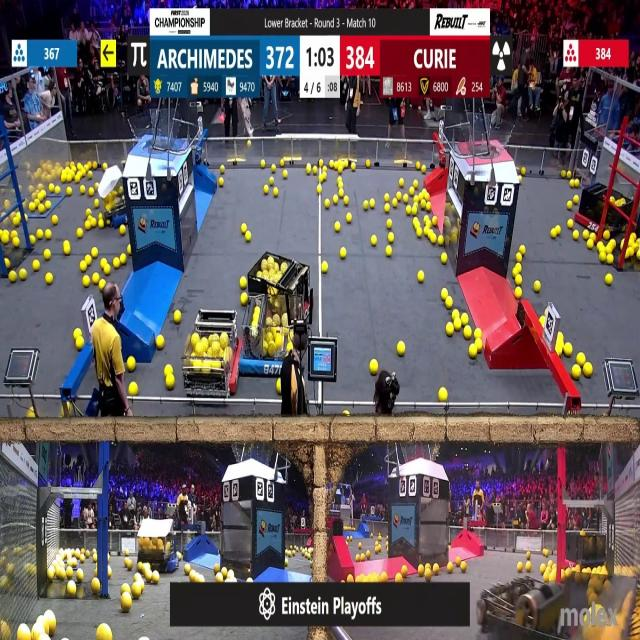ball_ground: (46, 614, 56, 636), (120, 594, 131, 612), (96, 625, 109, 640), (18, 627, 31, 640), (67, 583, 76, 599), (133, 585, 143, 599), (93, 579, 102, 594), (571, 364, 580, 378), (369, 359, 377, 374), (396, 342, 404, 357), (190, 572, 202, 582), (130, 383, 139, 396), (166, 377, 175, 390), (128, 357, 136, 371), (564, 344, 572, 358), (440, 388, 449, 400), (585, 363, 593, 376), (556, 343, 564, 356), (464, 326, 472, 338), (9, 272, 17, 284), (64, 242, 71, 255), (174, 311, 181, 324), (447, 322, 454, 335), (424, 566, 431, 579), (355, 572, 364, 582), (82, 276, 90, 287), (468, 347, 476, 358), (446, 297, 454, 308), (576, 353, 584, 364), (454, 319, 462, 330), (533, 281, 540, 293), (45, 274, 52, 286), (76, 339, 83, 351), (158, 338, 165, 350), (67, 567, 74, 579), (74, 328, 82, 338), (515, 265, 523, 275), (452, 310, 460, 320), (474, 339, 480, 352), (516, 287, 523, 298), (418, 272, 425, 283), (442, 288, 449, 299), (18, 270, 25, 281), (461, 314, 468, 325), (152, 571, 159, 582), (113, 257, 120, 268), (93, 274, 100, 285), (242, 292, 248, 304), (121, 585, 129, 594), (516, 276, 523, 286), (603, 232, 610, 242), (588, 240, 595, 250), (216, 572, 223, 582), (166, 364, 173, 374), (245, 233, 252, 243), (606, 254, 613, 264), (83, 220, 90, 230), (11, 238, 18, 248), (429, 235, 436, 245), (76, 570, 83, 580), (539, 564, 546, 574), (30, 202, 37, 212), (386, 246, 392, 257), (322, 263, 328, 274), (241, 278, 247, 289), (341, 248, 347, 259), (44, 249, 50, 260), (605, 275, 611, 286), (277, 380, 282, 393), (369, 572, 377, 580), (395, 573, 402, 582), (44, 231, 51, 240), (403, 206, 410, 215), (38, 204, 45, 213), (381, 571, 388, 580), (67, 173, 74, 182), (93, 248, 99, 258), (34, 262, 40, 272), (388, 234, 394, 244), (80, 264, 86, 274), (474, 328, 480, 338), (119, 254, 125, 264), (442, 253, 448, 263), (370, 236, 376, 246), (241, 222, 247, 232), (100, 280, 106, 290), (99, 218, 105, 228), (363, 201, 369, 211), (76, 230, 82, 240), (104, 266, 110, 276), (417, 230, 423, 240), (600, 252, 606, 262), (572, 231, 578, 241), (448, 563, 454, 573), (460, 562, 466, 572), (551, 230, 557, 240), (432, 564, 438, 574), (419, 565, 425, 575), (34, 229, 40, 239), (526, 562, 532, 572), (439, 236, 445, 246), (127, 560, 133, 570), (92, 217, 98, 227), (138, 562, 144, 572), (423, 227, 429, 237), (542, 572, 548, 582), (221, 568, 227, 578), (44, 202, 51, 210), (516, 562, 521, 573), (51, 215, 57, 224), (384, 192, 390, 201), (567, 219, 573, 228), (368, 200, 374, 209), (556, 224, 562, 233), (402, 193, 408, 202), (87, 255, 93, 264), (312, 167, 318, 176), (431, 217, 437, 226), (520, 246, 526, 255), (517, 253, 523, 262), (307, 166, 313, 175), (413, 217, 419, 226), (594, 240, 600, 249), (61, 174, 67, 183), (347, 213, 352, 223), (119, 224, 124, 234), (336, 221, 341, 231), (424, 216, 429, 226), (426, 202, 431, 212), (184, 564, 189, 574), (401, 566, 406, 576), (31, 236, 36, 246), (331, 195, 338, 202), (348, 574, 354, 582), (218, 178, 224, 186), (344, 198, 350, 206), (316, 185, 322, 193), (396, 191, 402, 199), (94, 200, 100, 208), (88, 208, 94, 216), (410, 187, 416, 195), (269, 177, 275, 185), (566, 171, 572, 179), (100, 258, 106, 266), (419, 192, 425, 200), (424, 191, 430, 199), (328, 162, 334, 170), (365, 162, 371, 170), (29, 412, 35, 420), (590, 234, 596, 242), (387, 219, 392, 228), (265, 184, 270, 193), (324, 200, 329, 209), (128, 246, 133, 255), (398, 178, 403, 187), (567, 202, 572, 211), (413, 206, 418, 215), (274, 187, 279, 196), (284, 559, 289, 568), (385, 204, 390, 213), (90, 187, 95, 196), (48, 183, 53, 192), (4, 258, 9, 267), (338, 177, 344, 184), (93, 556, 99, 563), (56, 186, 62, 193), (11, 232, 17, 239), (365, 553, 371, 560), (526, 553, 532, 560), (572, 195, 578, 202), (321, 167, 327, 174), (584, 232, 589, 240), (283, 171, 288, 179), (67, 187, 72, 195), (392, 200, 397, 208), (80, 185, 85, 193), (272, 165, 277, 173), (89, 172, 94, 180), (75, 174, 80, 182), (351, 164, 356, 172), (631, 234, 636, 242), (280, 161, 285, 169), (416, 163, 421, 171), (216, 564, 220, 574), (574, 180, 579, 188), (339, 167, 344, 175), (542, 550, 547, 558), (636, 249, 640, 259), (415, 180, 420, 188), (254, 308, 259, 316), (108, 568, 112, 577), (522, 168, 526, 177), (540, 317, 544, 326), (570, 179, 574, 188), (344, 412, 350, 418), (319, 175, 324, 182), (103, 165, 108, 172), (421, 202, 426, 209), (519, 176, 524, 183), (319, 162, 324, 169), (562, 170, 566, 178), (340, 188, 344, 196), (422, 165, 426, 173), (377, 544, 381, 552), (360, 554, 364, 562), (96, 182, 101, 188), (220, 167, 224, 174), (356, 555, 360, 562), (263, 160, 267, 167), (248, 577, 252, 583), (108, 556, 111, 564)
goal: (460, 118, 517, 158), (128, 115, 187, 152)
robot_blue: (251, 254, 307, 322), (242, 310, 289, 380), (137, 535, 177, 575), (101, 182, 128, 229)
robot_red: (180, 311, 238, 414), (475, 580, 563, 640), (578, 174, 610, 232)
